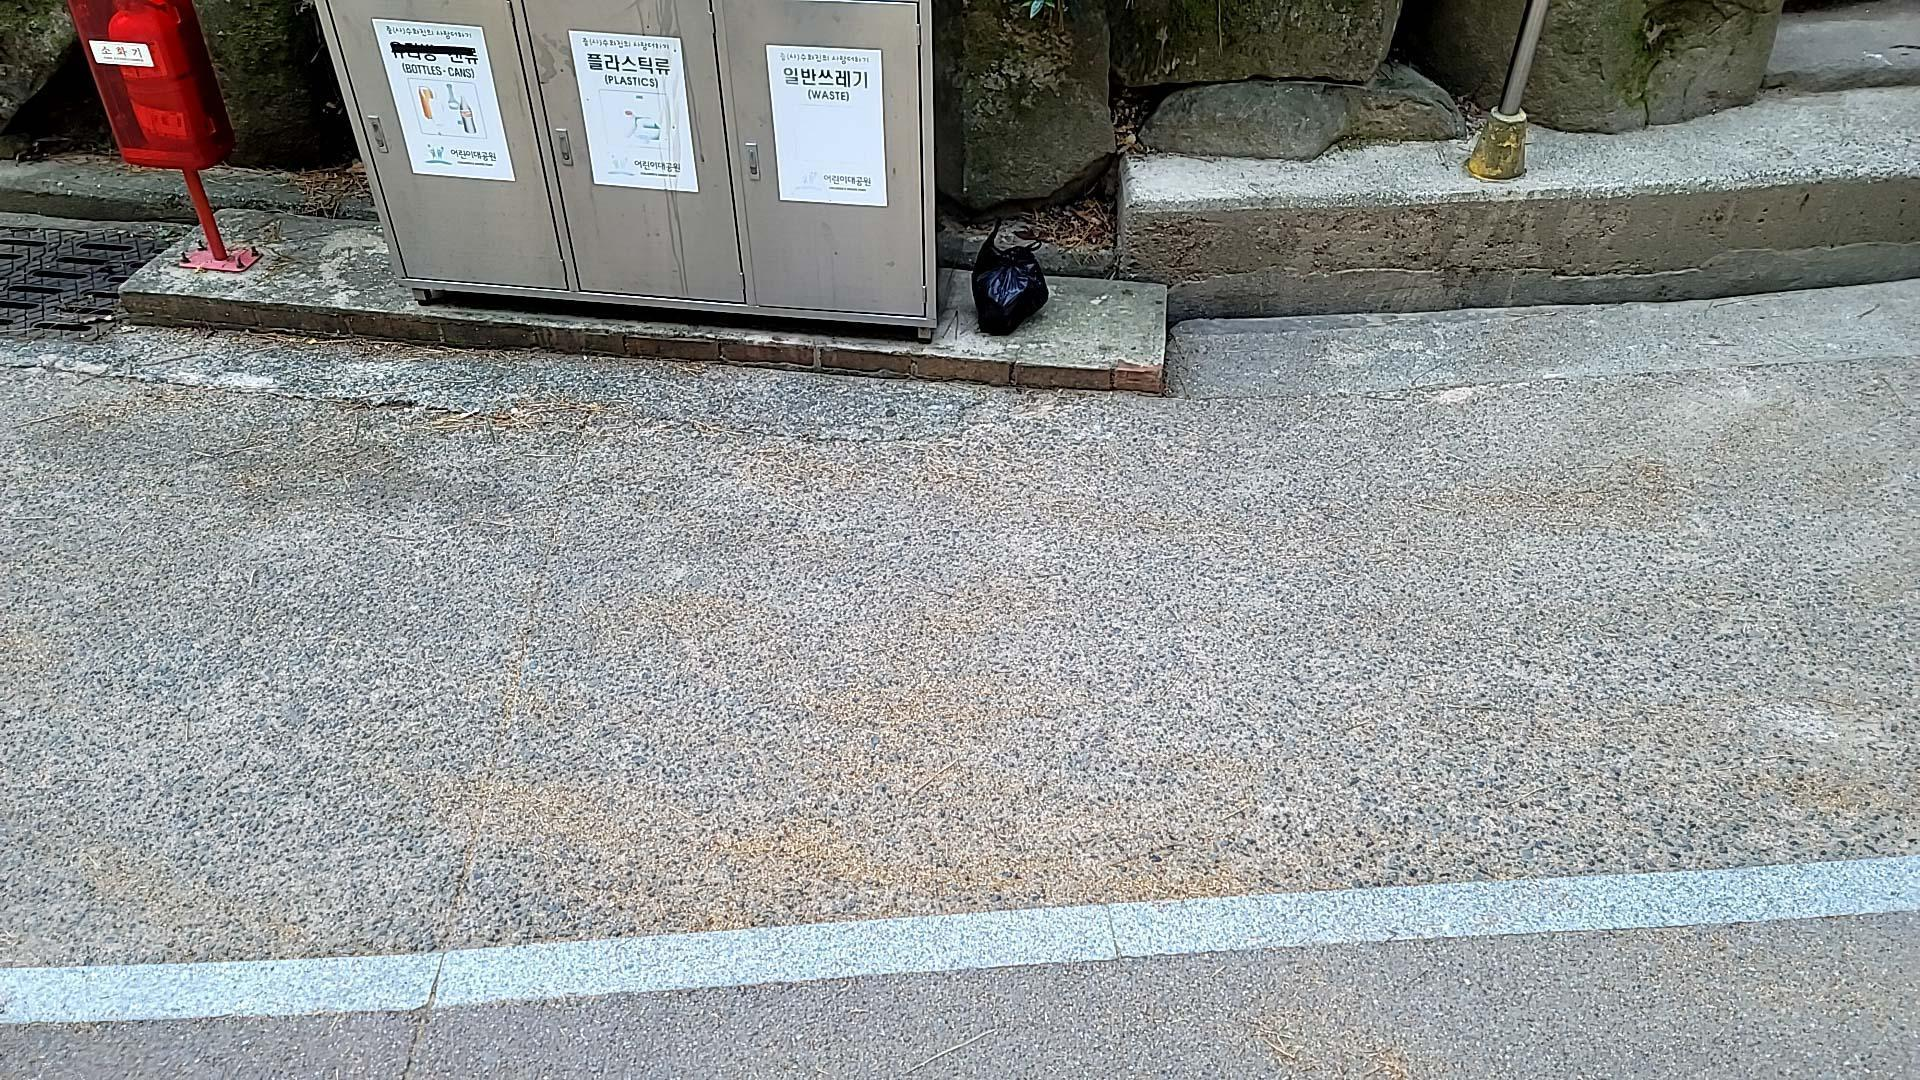black_bag: (965, 216, 1054, 342)
